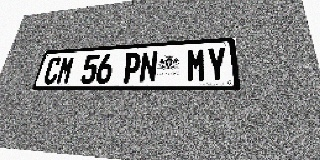5: (80, 54, 100, 84)
6: (95, 53, 115, 84)
C: (42, 57, 63, 85)
M: (186, 48, 206, 82), (55, 56, 76, 84)
N: (138, 51, 158, 83)
P: (121, 52, 141, 83)
Y: (206, 47, 228, 82)
